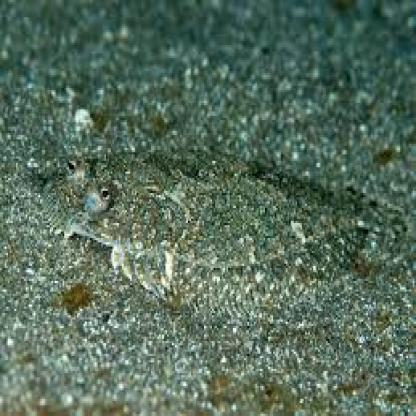flounder: (27, 133, 399, 328)
